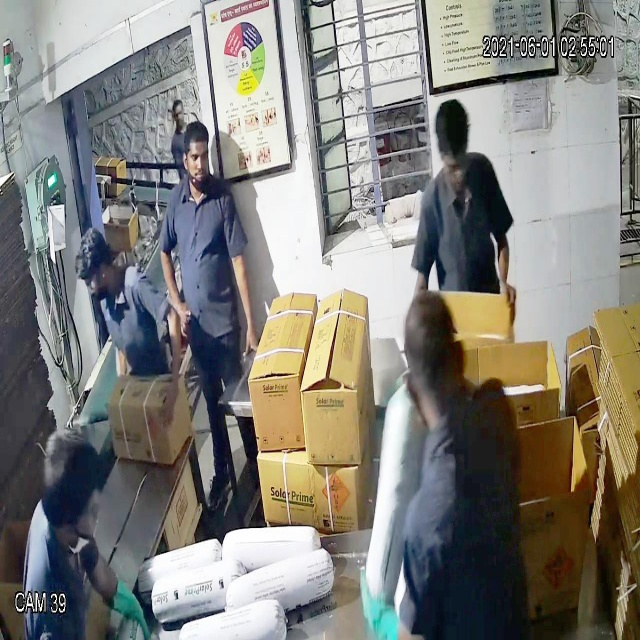Sin_gafas: (173, 137, 214, 175)
